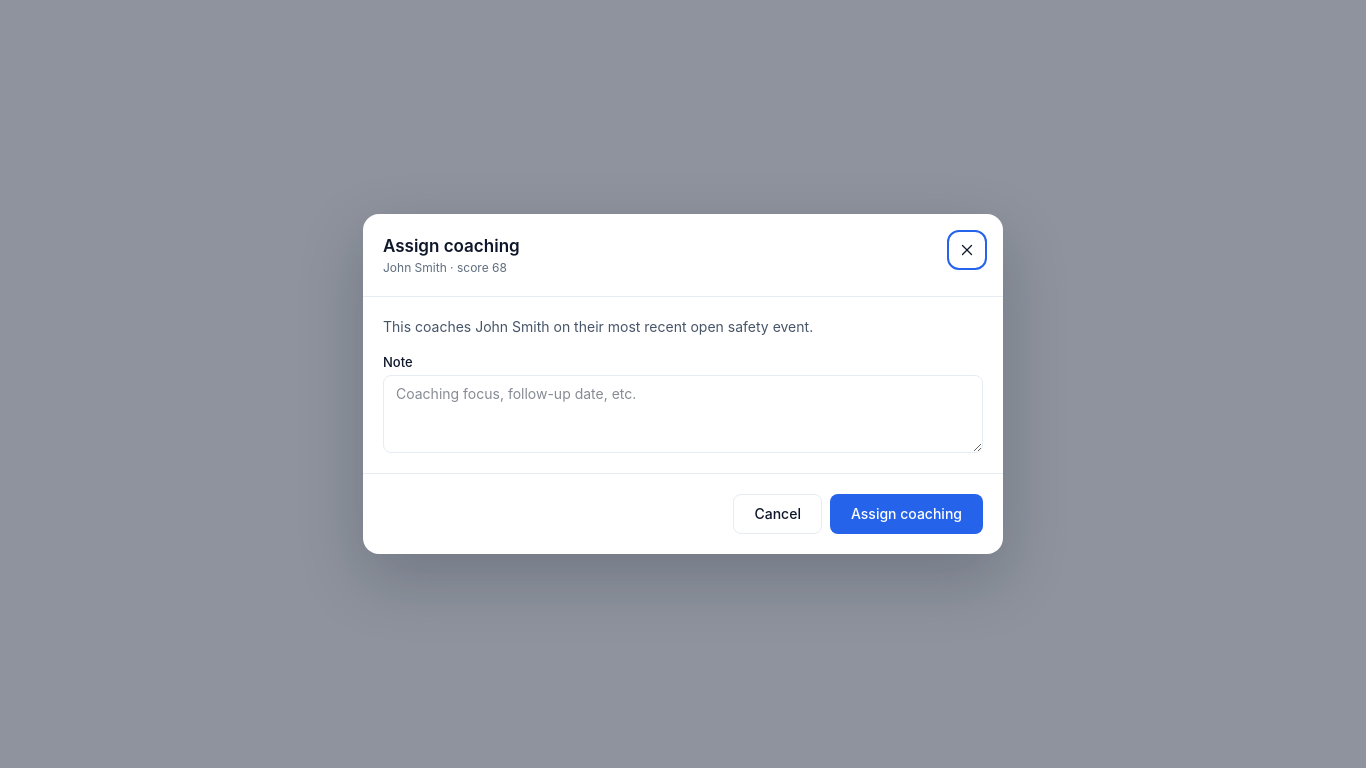
AssignCoachingModal › spells out a server 422 the form has no field for, instead of "Check the highlighted fields"
Type "Follow up" into the text box labelled "Note" at [683, 414], box [383, 375, 983, 453]
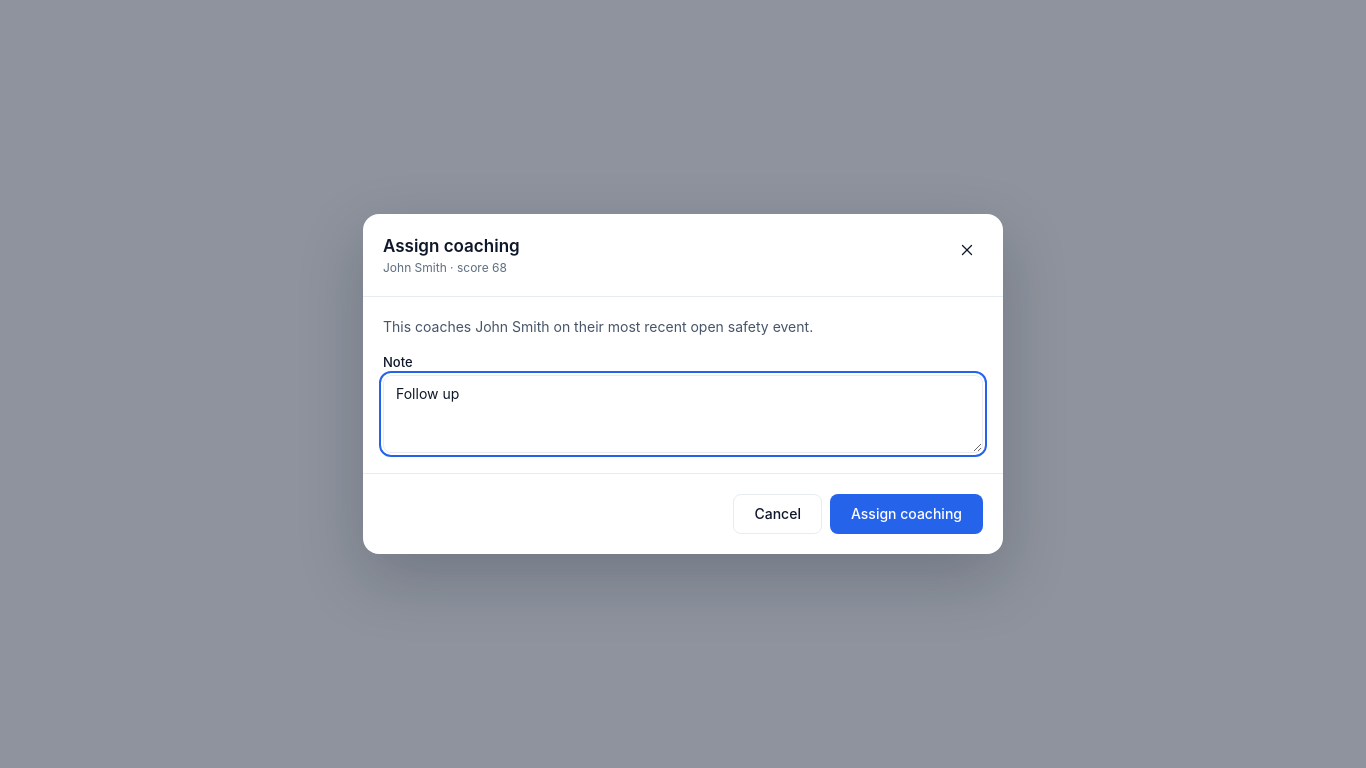
Click the button "Assign coaching" at [906, 514], box [830, 494, 983, 534]
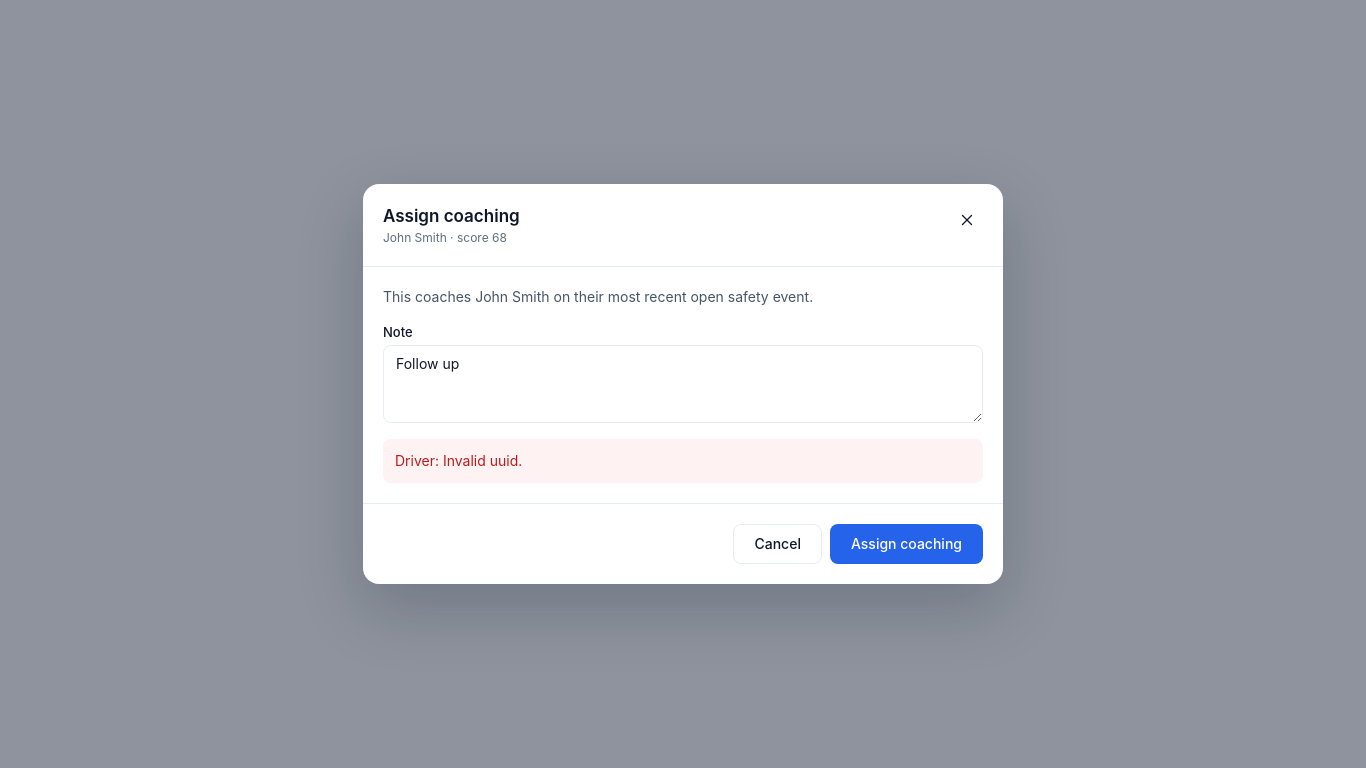
Expected: the text "Driver: Invalid uuid." is shown, [383, 439, 983, 483]
